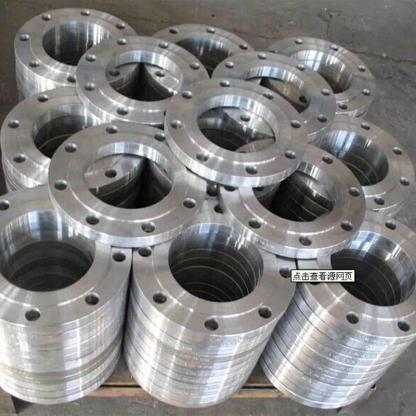FOD: (45, 116, 212, 246), (218, 132, 369, 261), (164, 74, 312, 190), (72, 31, 210, 127), (209, 47, 339, 139)
